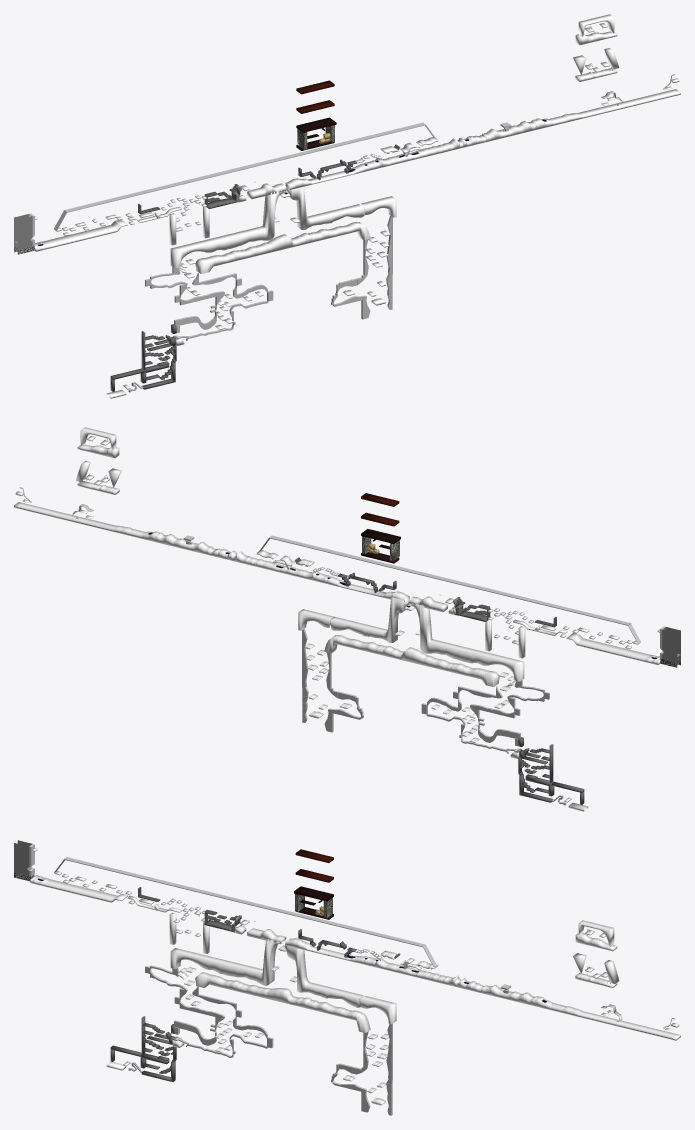
The picture shows the model from 3 angles, top to bottom: view 1: azimuth 30°, elevation 25°; view 2: azimuth 150°, elevation 25°; view 3: azimuth 330°, elevation 25°; orthographic projection.
Parts seen in each view (by area): view 1: Ground.000_Cube.010, 02.Ground_Cube.006, 02.Ground.002_Cube.002, 02.Ground.001_Cube.001, OverGround.008_Cube.117, OverGround.046_Cube.1179; view 2: Ground.000_Cube.010, 02.Ground_Cube.006, 02.Ground.002_Cube.002, 02.Ground.001_Cube.001, OverGround.008_Cube.117, OverGround.046_Cube.1179; view 3: Ground.000_Cube.010, 02.Ground_Cube.006, 02.Ground.002_Cube.002, 02.Ground.001_Cube.001, OverGround.008_Cube.117, OverGround.046_Cube.1179.
Part boxes in pixels (x1,y1,x2,y2): Ground.000_Cube.010: (297,89,680,186); 02.Ground_Cube.006: (195,222,370,273); 02.Ground.002_Cube.002: (170,189,284,268); 02.Ground.001_Cube.001: (285,184,396,229); OverGround.008_Cube.117: (63,122,425,212); OverGround.046_Cube.1179: (34,220,127,251); Ground.000_Cube.010: (14,502,397,599); 02.Ground_Cube.006: (324,635,499,686); 02.Ground.002_Cube.002: (411,603,524,681); 02.Ground.001_Cube.001: (298,597,409,642); OverGround.008_Cube.117: (269,535,631,625); OverGround.046_Cube.1179: (566,633,660,664); Ground.000_Cube.010: (297,939,680,1040); 02.Ground_Cube.006: (195,972,370,1032); 02.Ground.002_Cube.002: (170,939,284,985); 02.Ground.001_Cube.001: (284,945,396,1024); OverGround.008_Cube.117: (63,857,425,947); OverGround.046_Cube.1179: (30,875,128,902).
Size of the model in its own units: 636 by 239 by 13.7.
